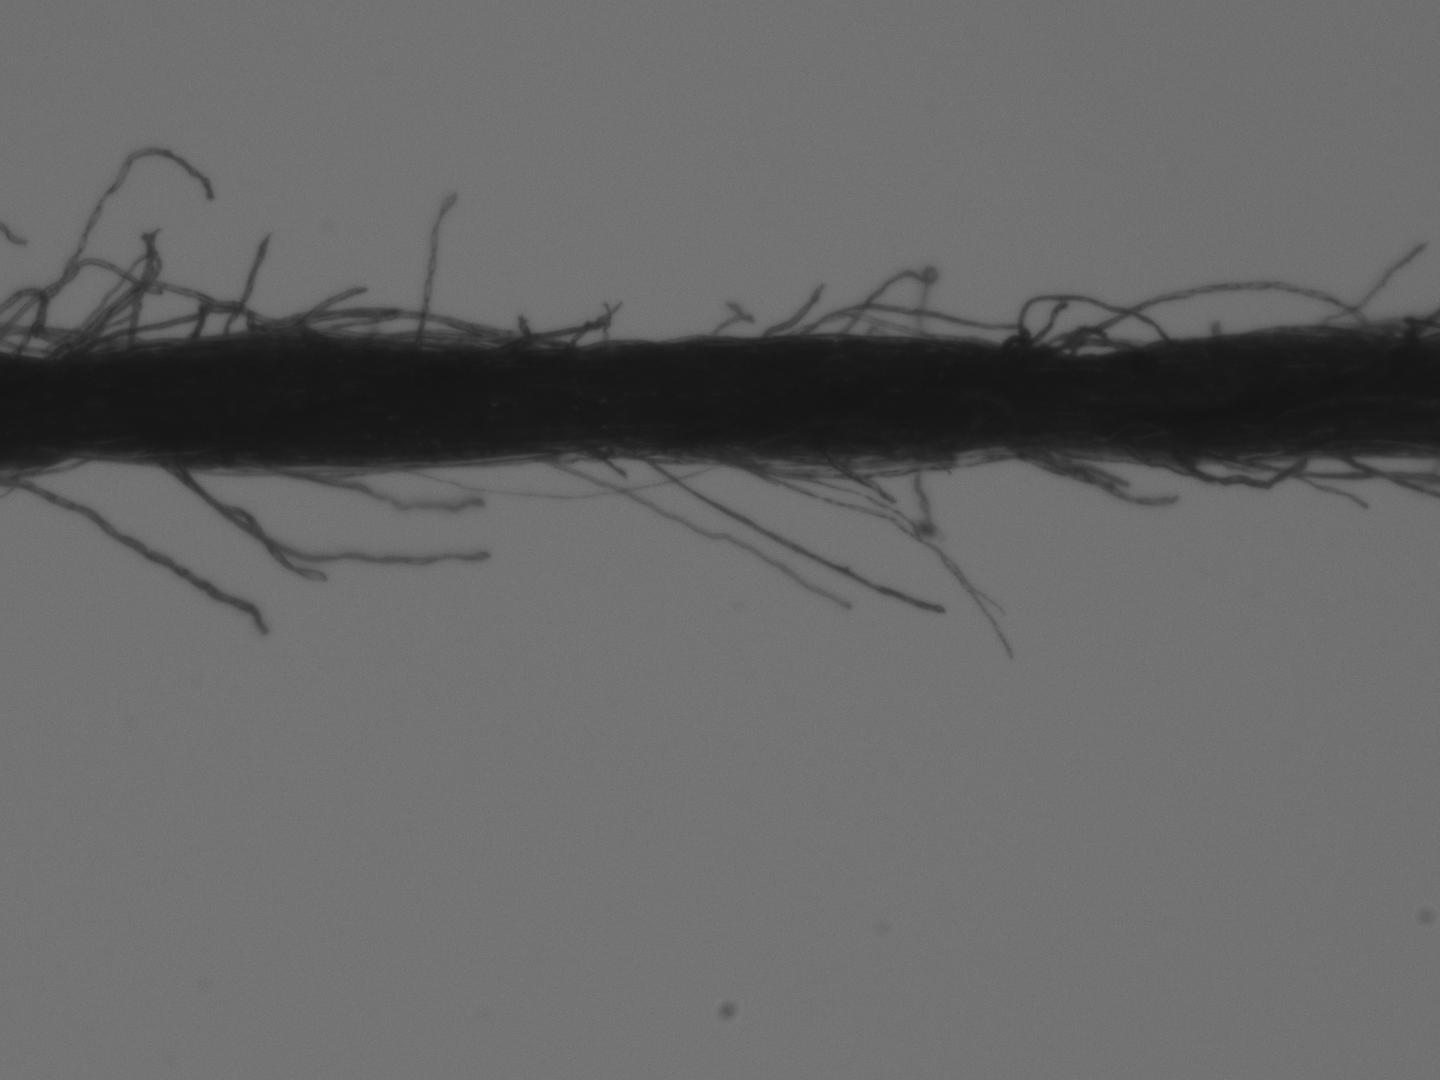loop_fiber: (1067, 279, 1362, 345), (67, 279, 297, 361), (5, 259, 135, 360), (799, 301, 1033, 349), (240, 310, 513, 347), (1019, 289, 1167, 348), (839, 271, 929, 339), (1170, 454, 1305, 484), (1058, 326, 1132, 354)
protruding_fiber: (639, 454, 951, 622), (6, 466, 278, 638), (1314, 242, 1422, 328), (413, 191, 458, 354), (225, 231, 272, 340)
